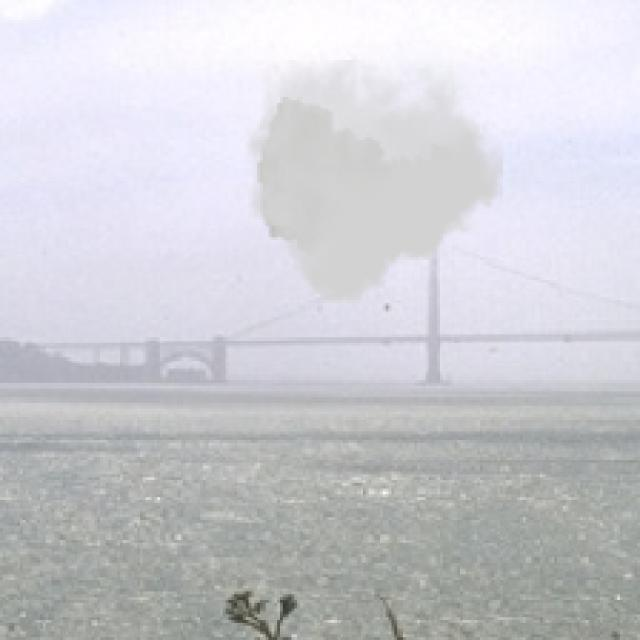smoke: (246, 60, 503, 303)
